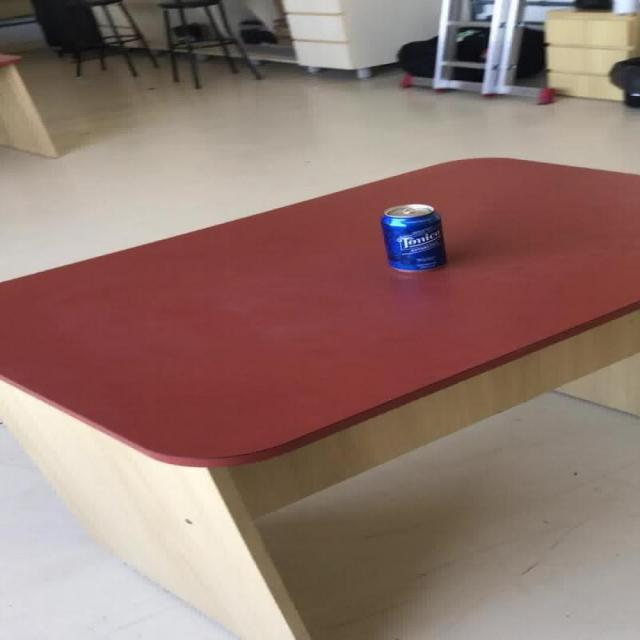Tonic: (378, 202, 446, 272)
